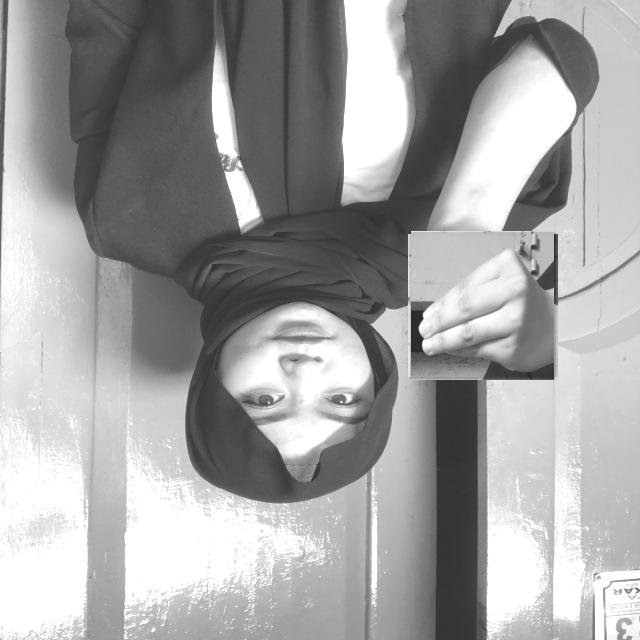kapan: (410, 232, 556, 379)
